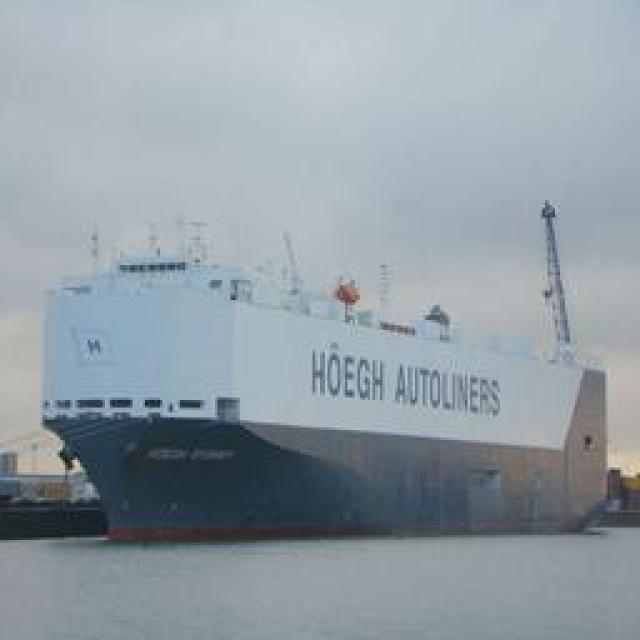Ship: (40, 220, 628, 538)
